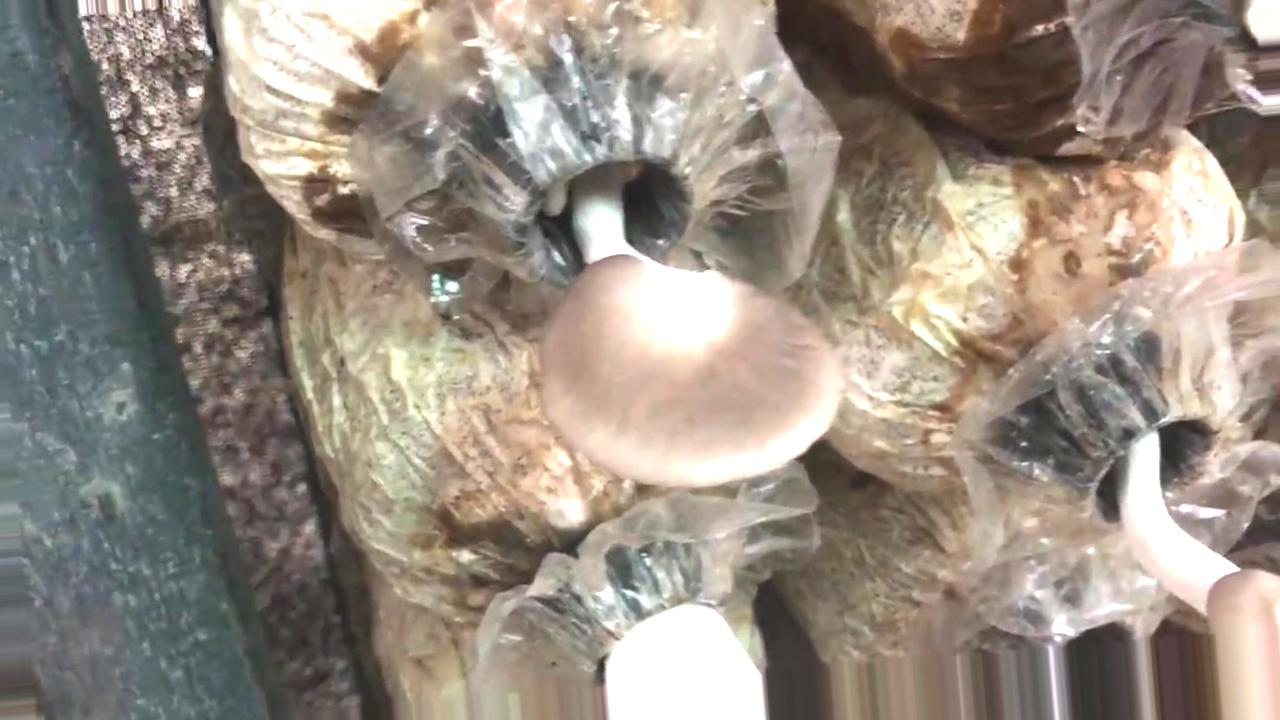nam: (493, 80, 846, 487)
